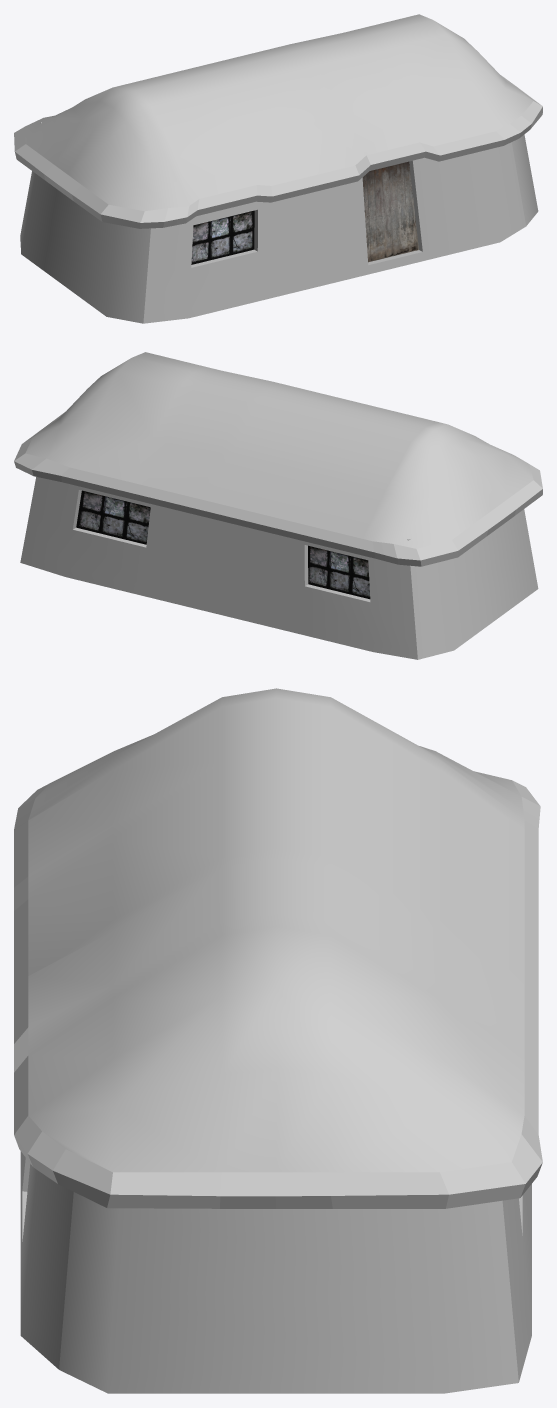
File: sarau.FBX
The picture shows the model from 3 angles, top to bottom: view 1: azimuth 30°, elevation 25°; view 2: azimuth 150°, elevation 25°; view 3: azimuth 270°, elevation 25°; orthographic projection. The views are drawn at different scales.
Parts seen in each view (by area): view 1: roof, Box001; view 2: roof, Box001; view 3: roof, Box001.
Boxes of the visible parts, x1,y1,x2,y2 form: roof: (14, 14, 542, 228); Box001: (20, 122, 538, 323); roof: (14, 352, 542, 566); Box001: (20, 477, 538, 659); roof: (14, 688, 542, 1208); Box001: (20, 1151, 531, 1393).
Bounding box in the file's own units: 261 × 99.61 × 137.
